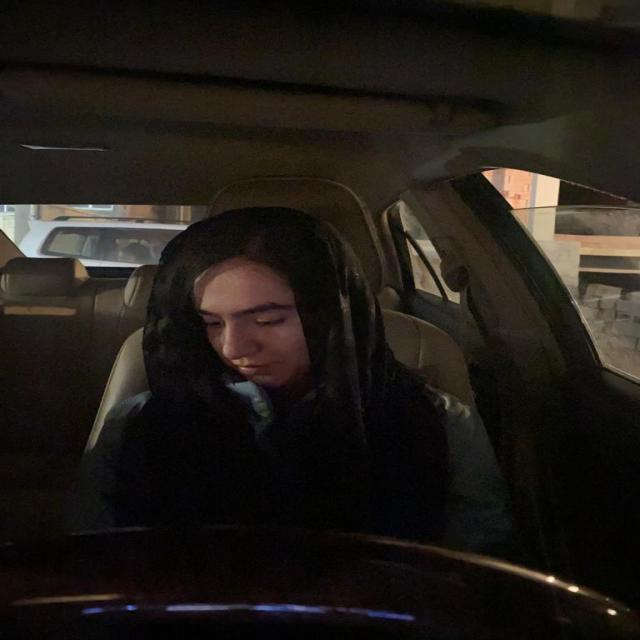drowsy: (173, 232, 337, 388)
